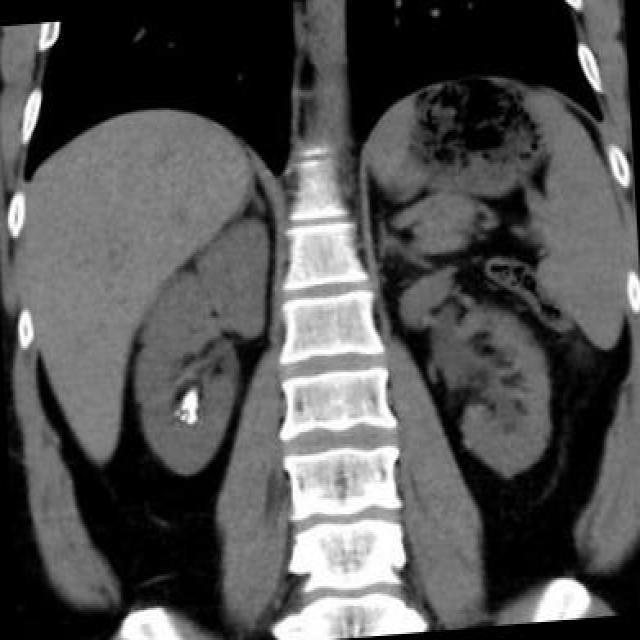Tas_Var: (177, 388, 201, 414), (186, 414, 197, 424), (178, 413, 185, 423), (171, 410, 179, 418), (178, 403, 184, 411)
